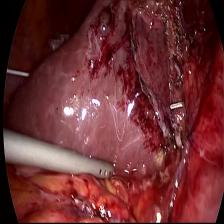Irrigator: (88, 152, 116, 184)
